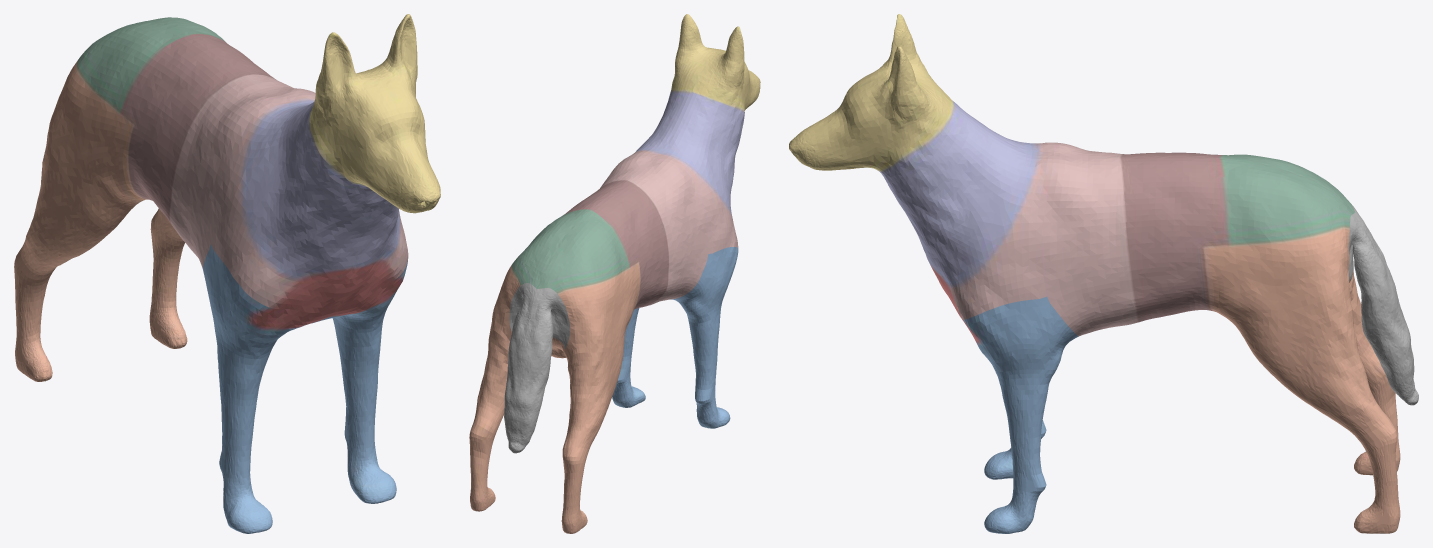
The model's file is dog.gltf.
3 views of the same model, side by side, from view 1: azimuth 30°, elevation 25°; view 2: azimuth 150°, elevation 25°; view 3: azimuth 270°, elevation 25° (orthographic). The views are drawn at different scales.
Bounding box in the file's own units: 0.00759 × 0.022 × 0.0267.
1 material, 1 textured.
